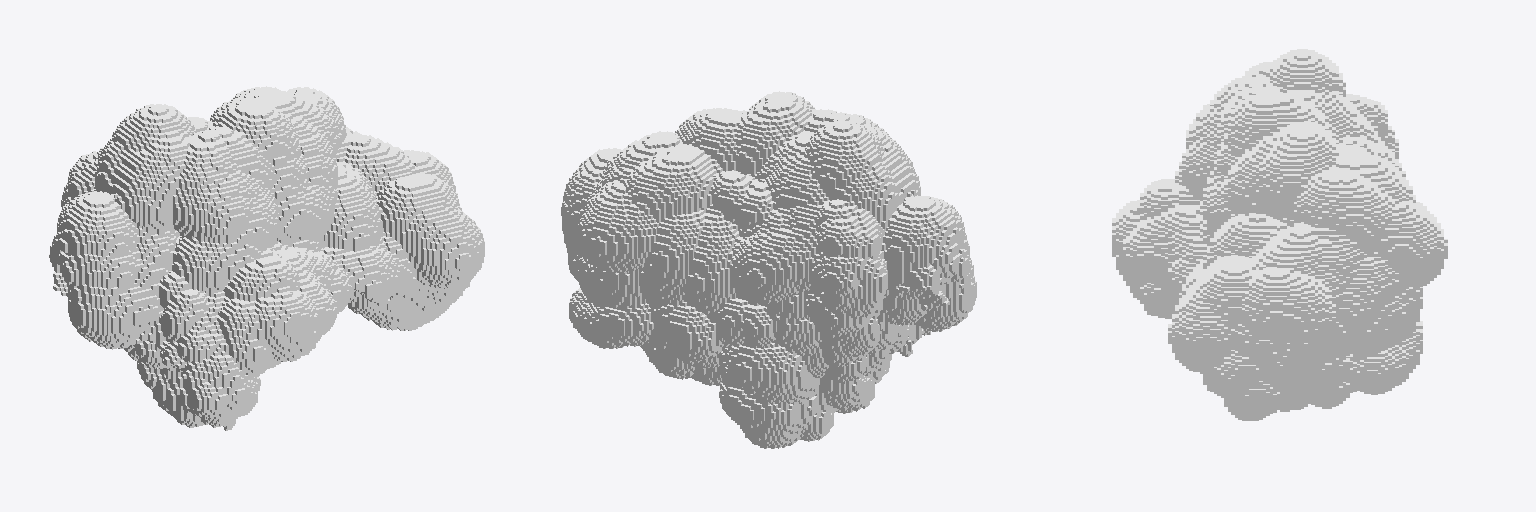
Rendered from forest1.4-26.obj.
3 views of the same model, side by side, from view 1: azimuth 30°, elevation 25°; view 2: azimuth 150°, elevation 25°; view 3: azimuth 270°, elevation 25° (orthographic).
Parts seen in each view (by area): view 1: object 1; view 2: object 1; view 3: object 1.
Boxes of the visible parts, x1,y1,x2,y2 form: object 1: [49, 86, 484, 430]; object 1: [561, 91, 976, 448]; object 1: [1112, 49, 1447, 420].
Bounding box in the file's own units: 12.8 × 10.1 × 9.6.